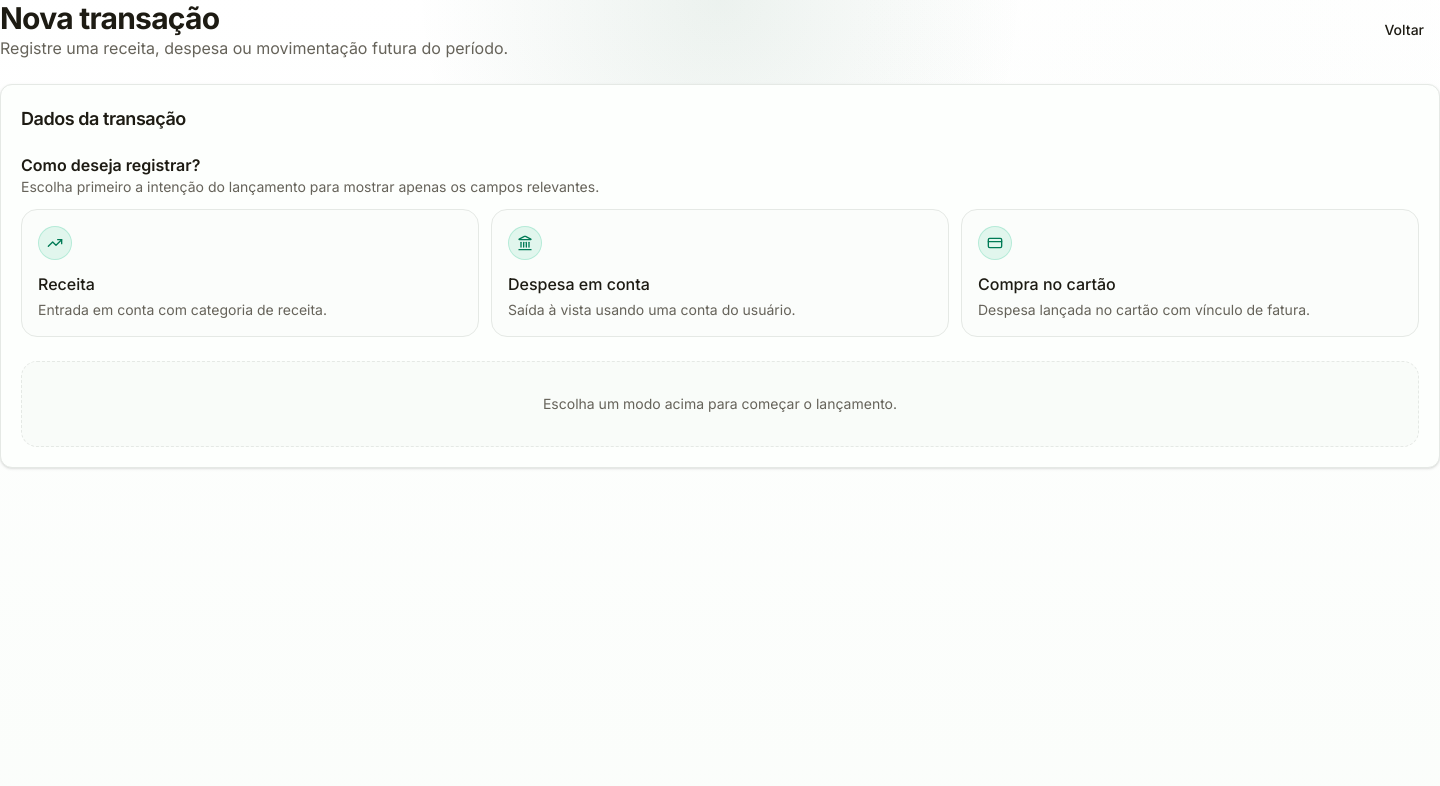
Test: transaction form intent modes › reveals the payment date only when the status is paid
What coordinates should you click on to do the following:
click the button "Receita Entrada em conta com categoria de receita."
I would click on:
 (55, 243)
Its box is [21, 209, 479, 337].
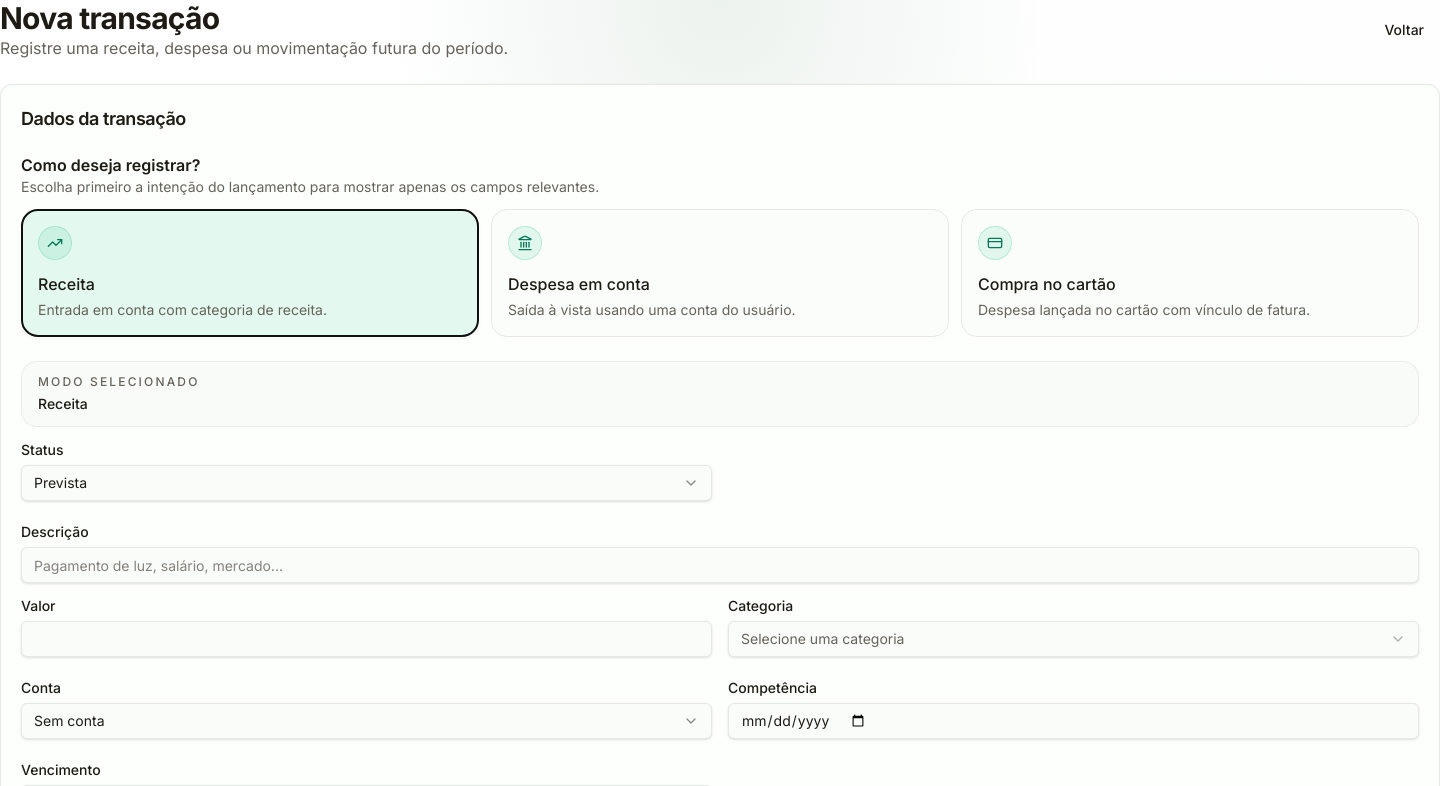
What coordinates should you click on to do the following:
click the dropdown named "Status"
I would click on:
 (61, 482)
Its box is [21, 465, 712, 501].
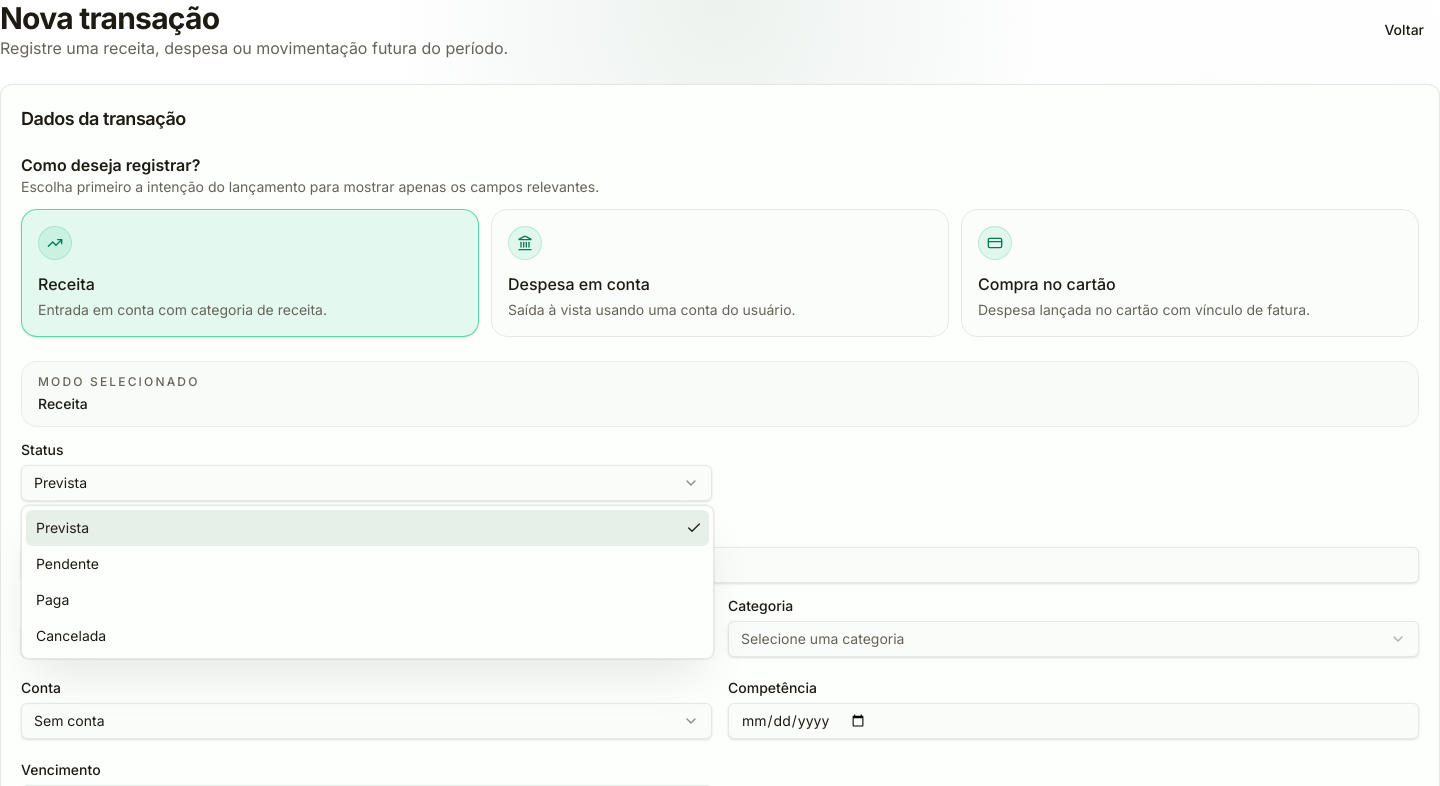
What coordinates should you click on to do the following:
click the option "Paga"
I would click on:
 (53, 600)
Its box is [36, 591, 69, 608].
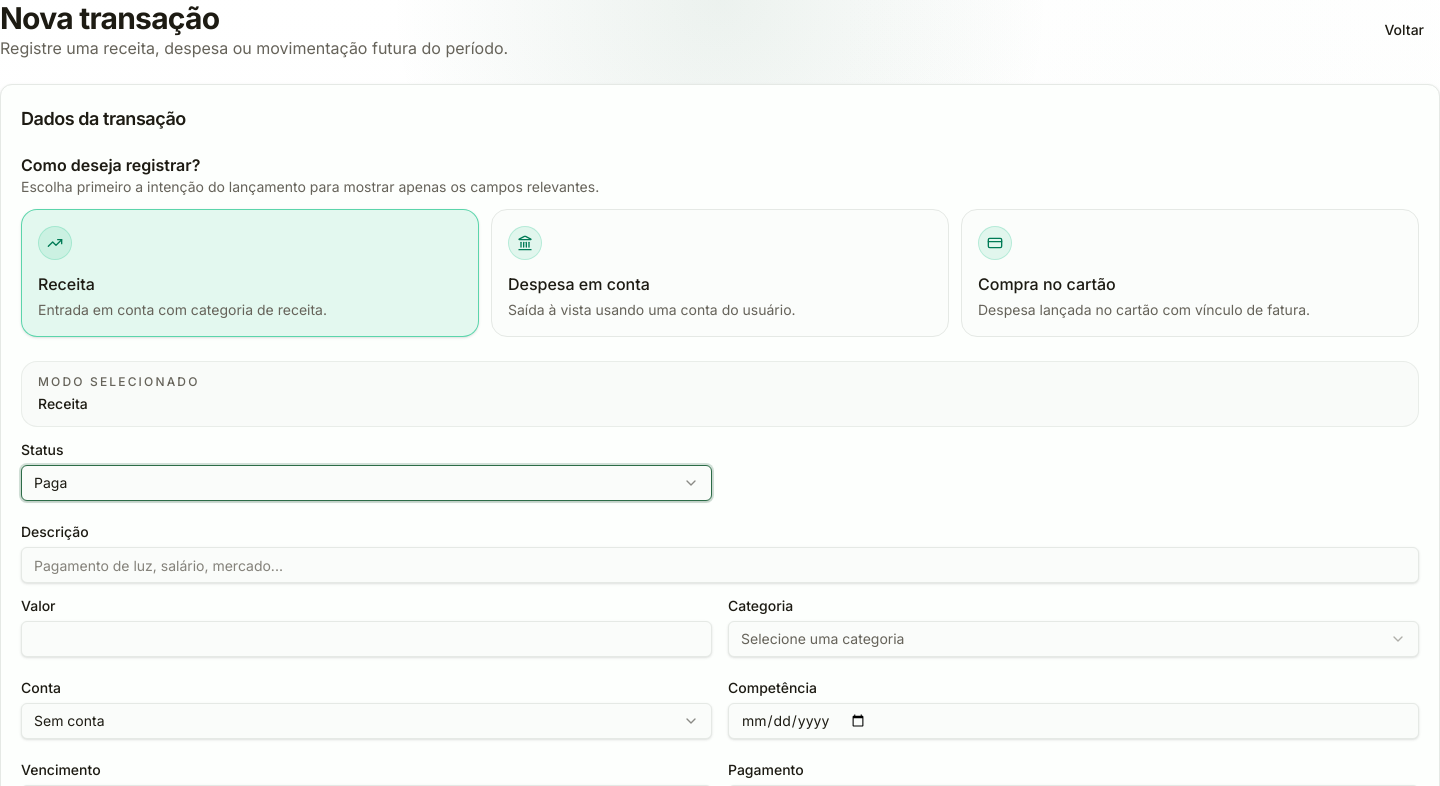
Result: the text "Pagamento" is shown at [728, 761, 804, 778]
